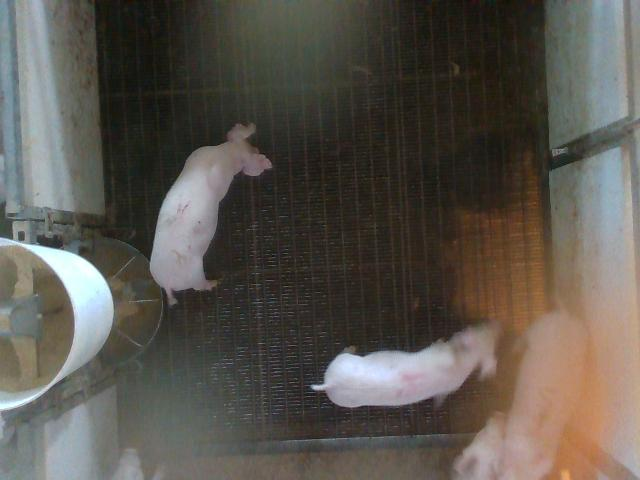pig-3: (501, 310, 588, 478)
pig-4: (311, 321, 500, 407)
